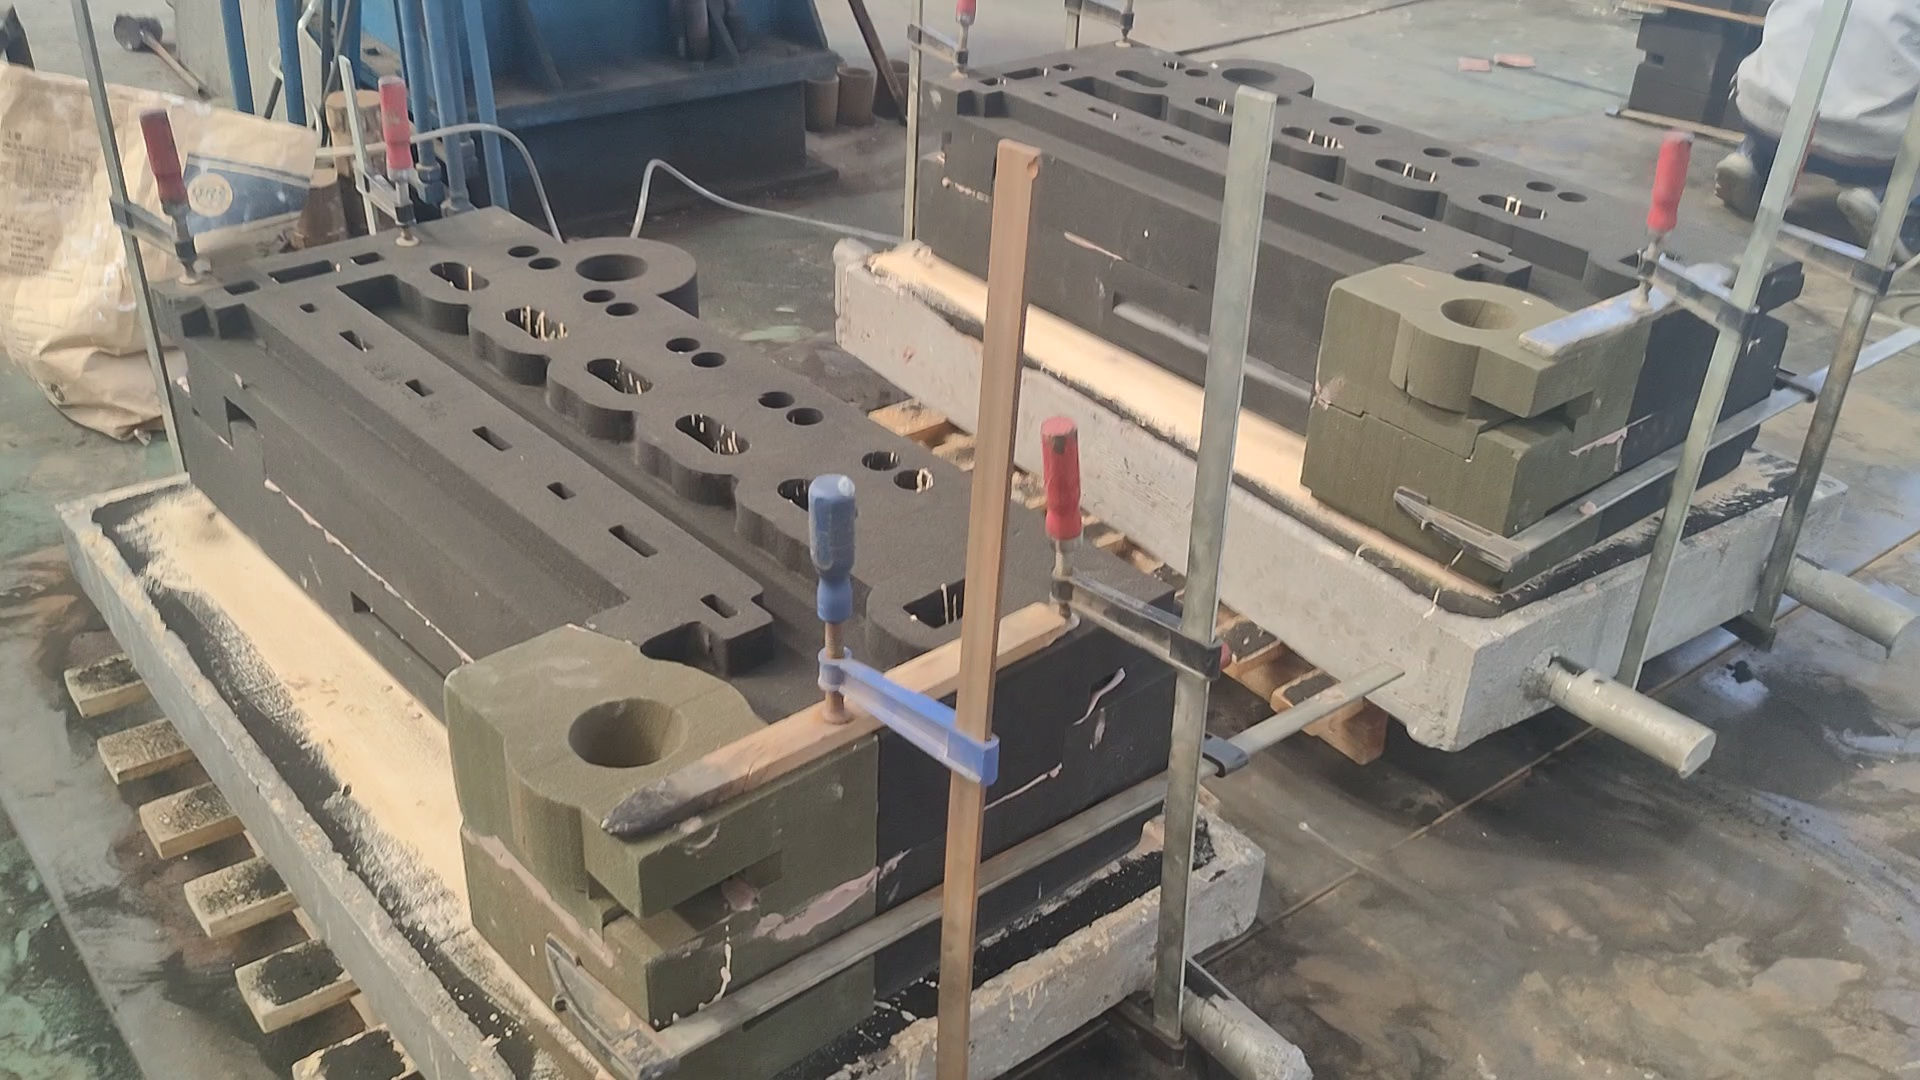pouring hole: (567, 696, 688, 769), (1440, 297, 1519, 331), (575, 255, 647, 282), (1222, 67, 1276, 83), (878, 59, 911, 75), (803, 70, 837, 84), (815, 54, 847, 65), (837, 67, 873, 76)
